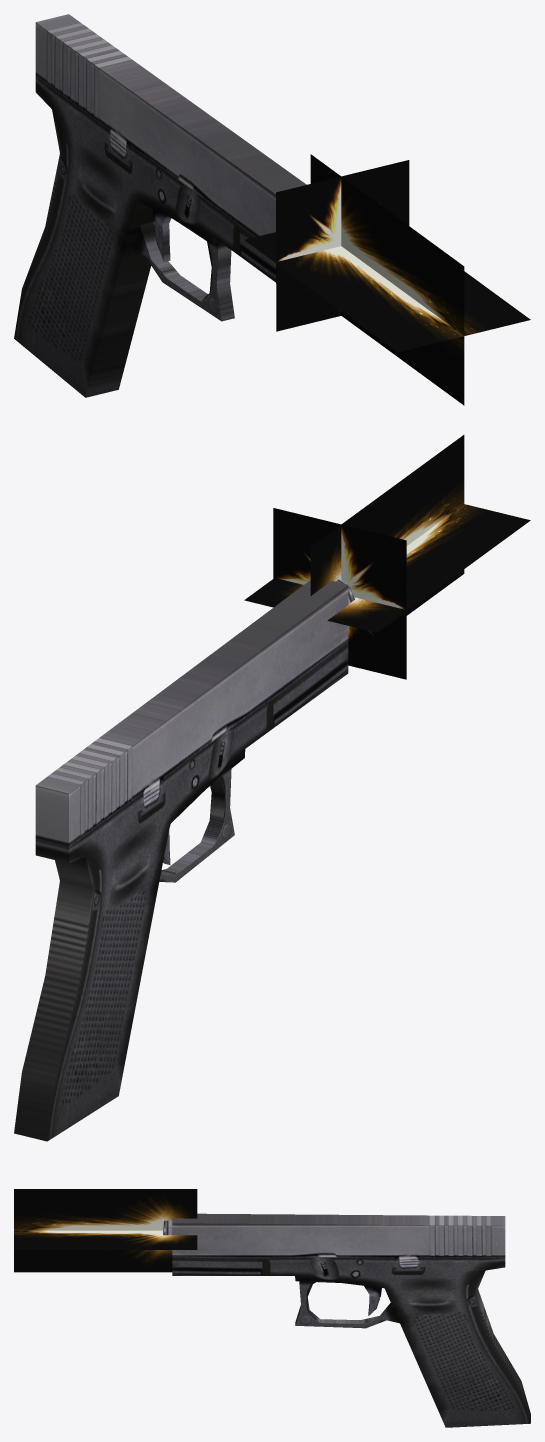
File: pistol2.FBX
The picture shows the model from 3 angles, top to bottom: view 1: azimuth 30°, elevation 25°; view 2: azimuth 150°, elevation 25°; view 3: azimuth 270°, elevation 25°; orthographic projection. The views are drawn at different scales.
Parts seen in each view (by area): view 1: pistol2, muzzle; view 2: pistol2, muzzle; view 3: pistol2, muzzle.
Part boxes in pixels (<box>): pistol2: <box>14,14,306,397</box>; muzzle: <box>244,154,530,405</box>; pistol2: <box>14,579,354,1141</box>; muzzle: <box>244,435,530,679</box>; pistol2: <box>163,1213,530,1427</box>; muzzle: <box>14,1189,197,1272</box>.
Size of the model in its own units: 50.53 by 282 by 141.
